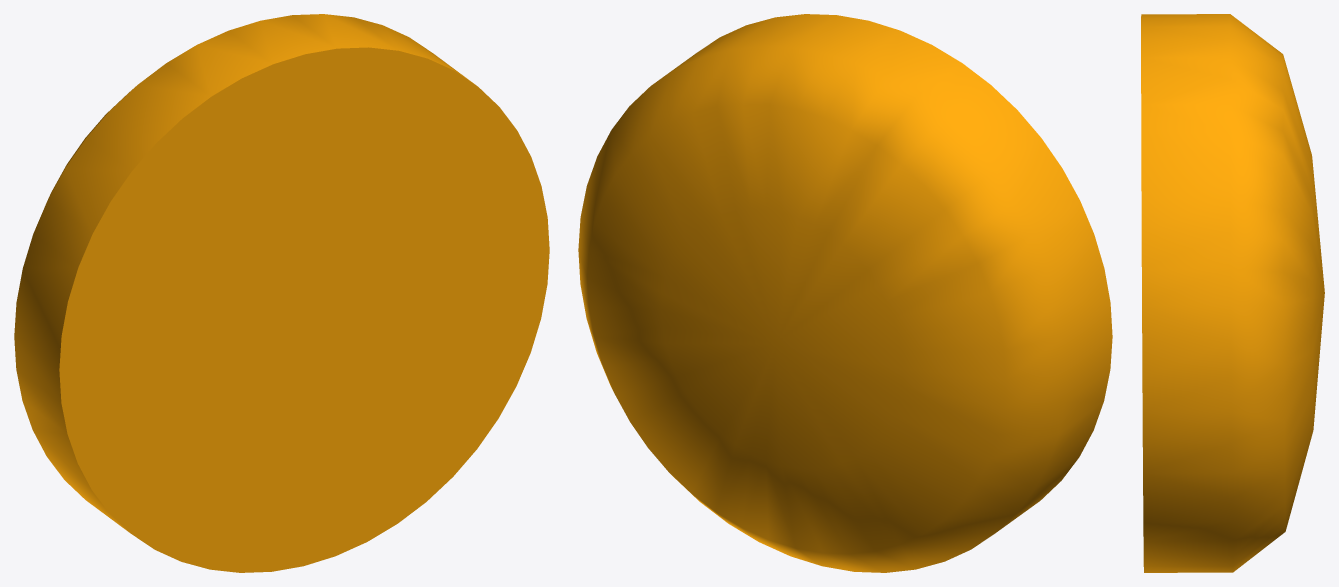
The model's file is EM_Lamp.obj.
3 renders of one model, left to right at view 1: azimuth 30°, elevation 25°; view 2: azimuth 150°, elevation 25°; view 3: azimuth 270°, elevation 25°, orthographic.
Parts seen in each view (by area): view 1: EM_Lamp; view 2: EM_Lamp; view 3: EM_Lamp.
Boxes of the visible parts, bbox=[...] form: EM_Lamp: bbox=[14, 14, 549, 572]; EM_Lamp: bbox=[578, 14, 1112, 572]; EM_Lamp: bbox=[1141, 14, 1324, 572].
Size of the model in its own units: 1.38 by 1.38 by 0.4538.
